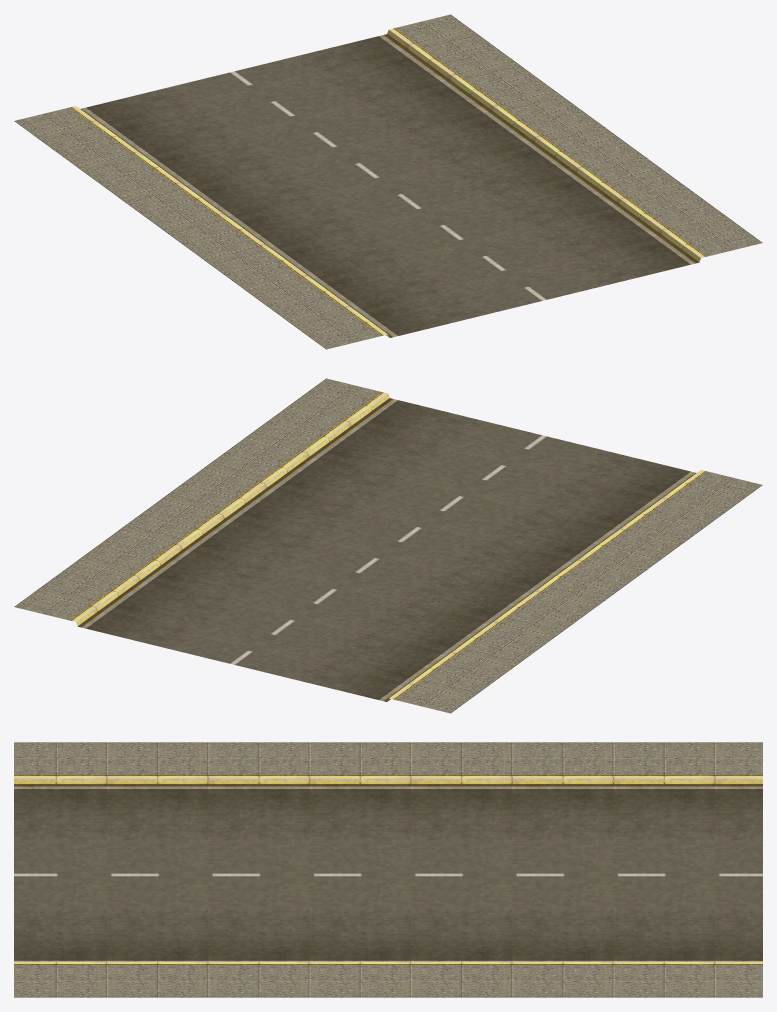
The model's file is Road3_Straight_D.fbx.
The picture shows the model from 3 angles, top to bottom: view 1: azimuth 30°, elevation 25°; view 2: azimuth 150°, elevation 25°; view 3: azimuth 270°, elevation 25°; orthographic projection. The views are drawn at different scales.
Parts seen in each view (by area): view 1: Road_Straight_D; view 2: Road_Straight_D; view 3: Road_Straight_D.
Boxes of the visible parts, x1,y1,x2,y2 form: Road_Straight_D: (14,14,762,349); Road_Straight_D: (14,378,762,713); Road_Straight_D: (14,742,762,997).
Size of the model in its own units: 2255 by 20.38 by 2793.
